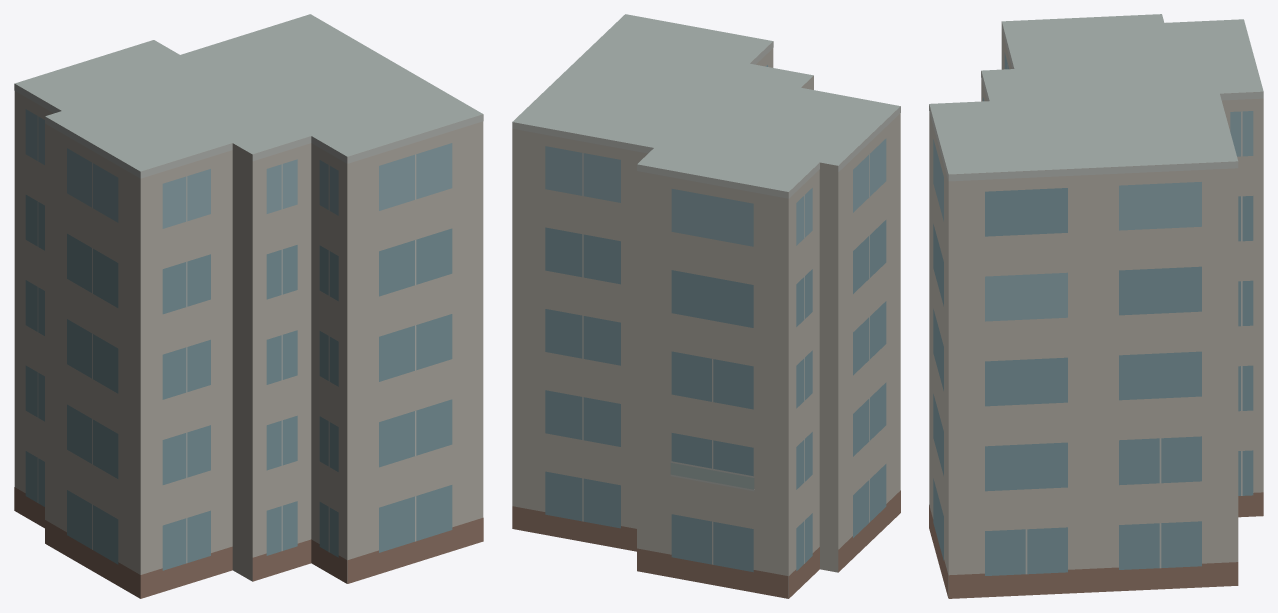
The model's file is survey-upis-32593446.glb.
3 renders of one model, left to right at view 1: azimuth 30°, elevation 25°; view 2: azimuth 150°, elevation 25°; view 3: azimuth 270°, elevation 25°, orthographic. The views are drawn at different scales.
Parts seen in each view (by area): view 1: survey-upis-32593446.tmp; view 2: survey-upis-32593446.tmp; view 3: survey-upis-32593446.tmp.
Boxes of the visible parts, <box> form: survey-upis-32593446.tmp: <box>14,14,483,598</box>; survey-upis-32593446.tmp: <box>512,14,900,598</box>; survey-upis-32593446.tmp: <box>929,14,1263,598</box>.
Bounding box in the file's own units: 12.01 × 14.8 × 10.58.
